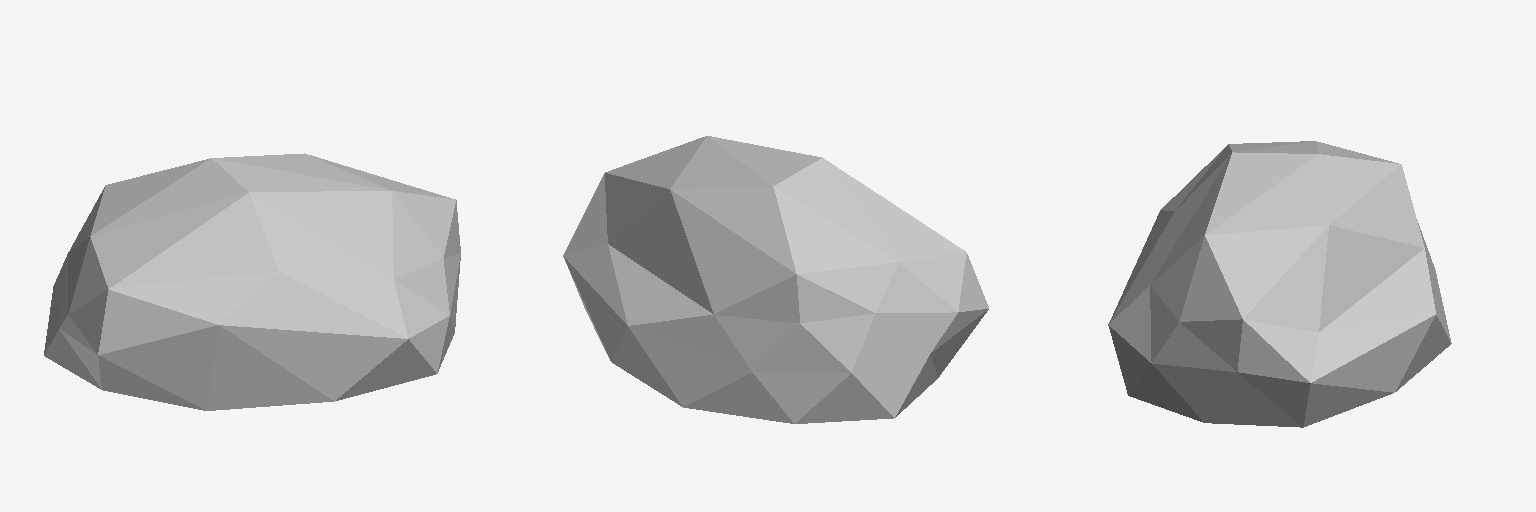
File: Rock.obj
The picture shows the model from 3 angles: view 1: azimuth 30°, elevation 25°; view 2: azimuth 150°, elevation 25°; view 3: azimuth 270°, elevation 25°; orthographic projection.
Parts seen in each view (by area): view 1: Rock_Icosphere.008; view 2: Rock_Icosphere.008; view 3: Rock_Icosphere.008.
Boxes of the visible parts, box(x1,y1,x2,y2) form: Rock_Icosphere.008: box(44, 153, 460, 410); Rock_Icosphere.008: box(563, 136, 988, 423); Rock_Icosphere.008: box(1108, 141, 1451, 427).
Size of the model in its own units: 0.7255 by 0.3281 by 0.5687.